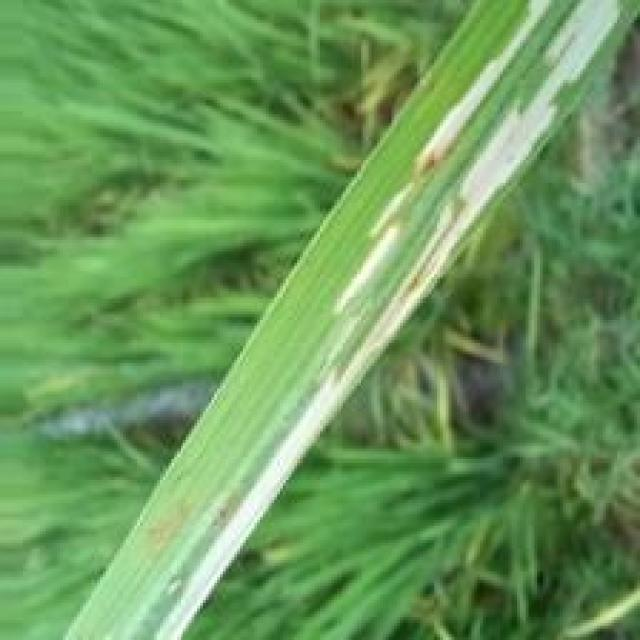Rice_Hispa: (140, 0, 629, 640), (335, 0, 553, 303)
